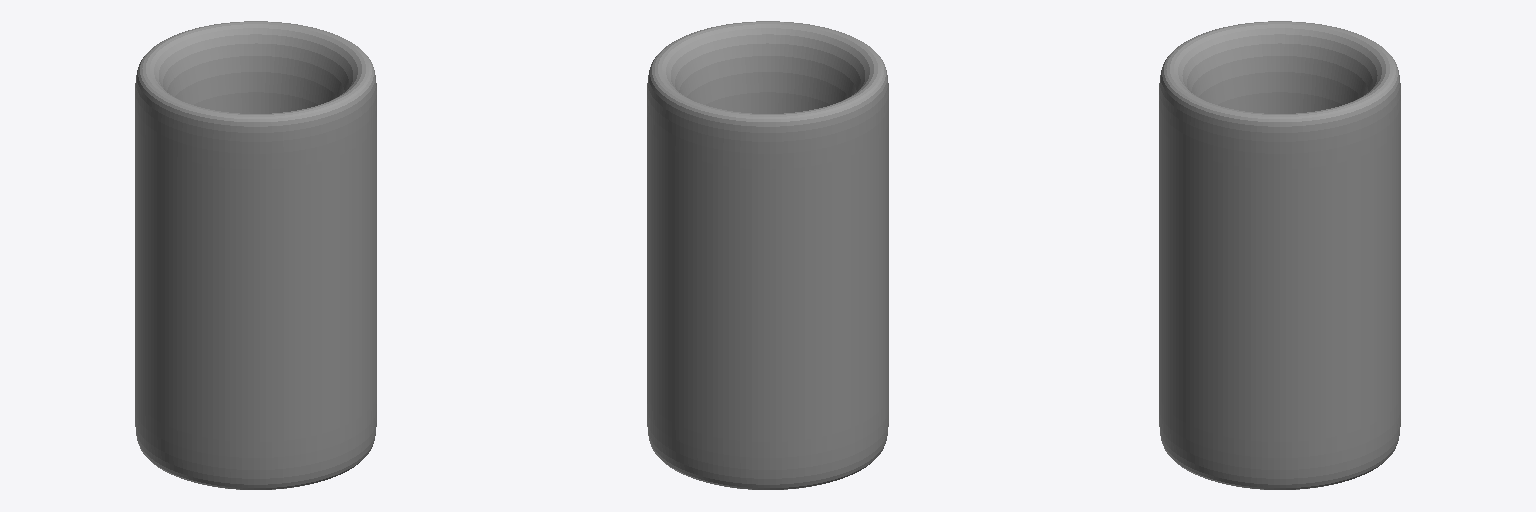
File: copinhooo.obj
3 views of the same model, side by side, from view 1: azimuth 30°, elevation 25°; view 2: azimuth 150°, elevation 25°; view 3: azimuth 270°, elevation 25° (orthographic).
Visible parts, largest first — view 1: copinhoo_Cylinder; view 2: copinhoo_Cylinder; view 3: copinhoo_Cylinder.
Boxes of the visible parts, <box> form: copinhoo_Cylinder: <box>135,21,376,489</box>; copinhoo_Cylinder: <box>647,21,888,489</box>; copinhoo_Cylinder: <box>1159,21,1400,489</box>.
Size of the model in its own units: 6.87 by 11.72 by 6.87.